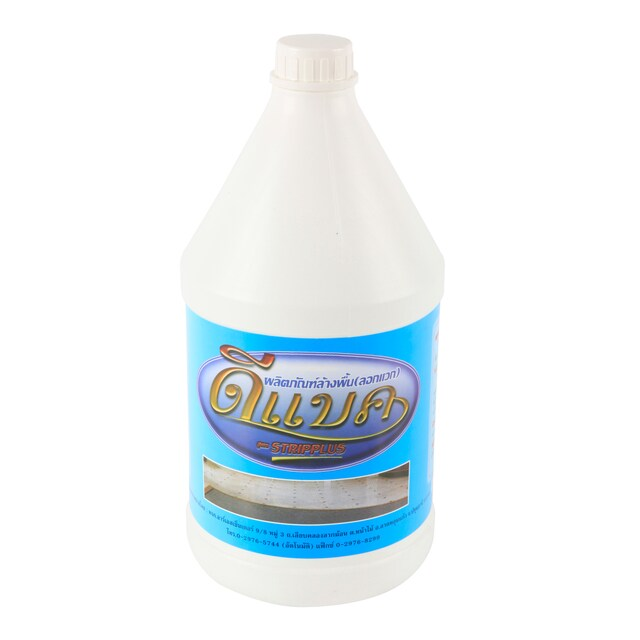Cleaning_solution: (174, 25, 451, 610)
